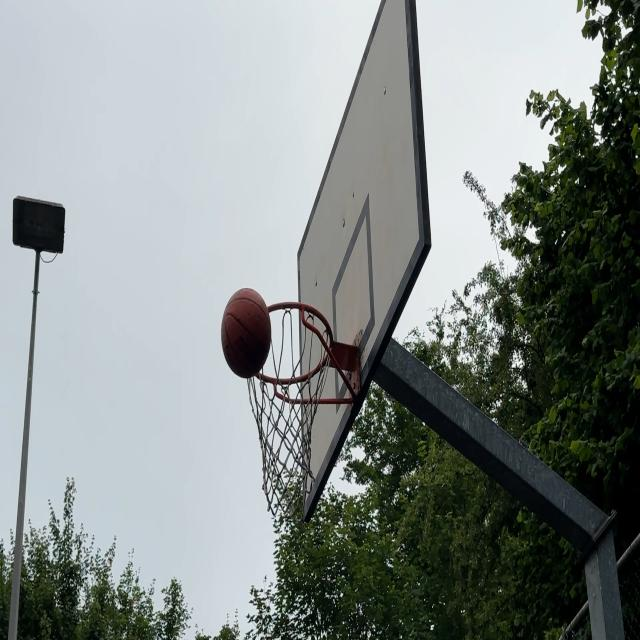rebound_hit: (222, 290, 273, 378)
